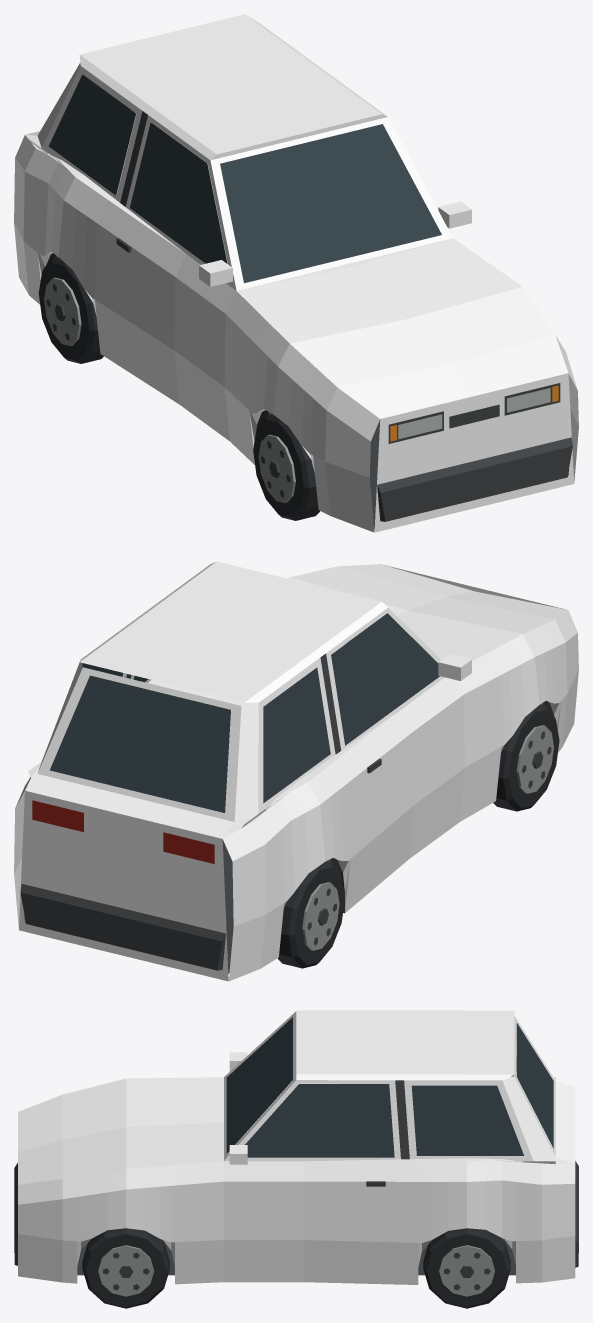
Rendered from hozuki_tsumuji_s.glb.
The picture shows the model from 3 angles, top to bottom: view 1: azimuth 30°, elevation 25°; view 2: azimuth 150°, elevation 25°; view 3: azimuth 270°, elevation 25°; orthographic projection. The views are drawn at different scales.
Visible parts, largest first — view 1: hozuki_tsumuji_s; view 2: hozuki_tsumuji_s; view 3: hozuki_tsumuji_s.
Part boxes in pixels (x1=…): hozuki_tsumuji_s: x1=14, y1=14, x2=578, y2=532; hozuki_tsumuji_s: x1=14, y1=561, x2=578, y2=981; hozuki_tsumuji_s: x1=14, y1=1010, x2=578, y2=1308.
Bounding box in the file's own units: 1.65 × 1.62 × 3.81.
8 materials, 1 textured.
